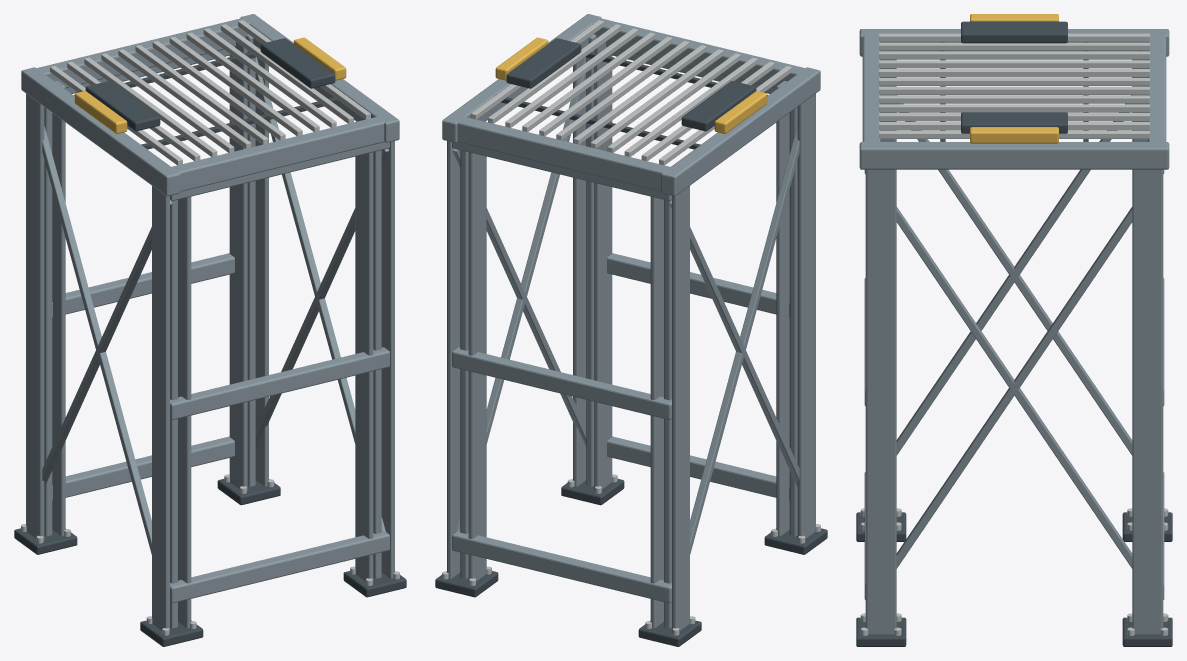
File: pit_cad_loading_tower_v1.glb
3 renders of one model, left to right at view 1: azimuth 30°, elevation 25°; view 2: azimuth 150°, elevation 25°; view 3: azimuth 270°, elevation 25°, orthographic. The views are drawn at different scales.
Parts seen in each view (by area): view 1: pit_cad_loading_tower_v1_galvanized_structural_steel, pit_cad_loading_tower_v1_machined_fasteners, pit_cad_loading_tower_v1_recessed_steel, pit_cad_loading_tower_v1_safety_ochre; view 2: pit_cad_loading_tower_v1_galvanized_structural_steel, pit_cad_loading_tower_v1_machined_fasteners, pit_cad_loading_tower_v1_recessed_steel, pit_cad_loading_tower_v1_safety_ochre; view 3: pit_cad_loading_tower_v1_galvanized_structural_steel, pit_cad_loading_tower_v1_machined_fasteners, pit_cad_loading_tower_v1_recessed_steel, pit_cad_loading_tower_v1_safety_ochre.
Part boxes in pixels (bbox=[...]): pit_cad_loading_tower_v1_galvanized_structural_steel: bbox=[21, 14, 399, 632]; pit_cad_loading_tower_v1_machined_fasteners: bbox=[21, 20, 399, 635]; pit_cad_loading_tower_v1_recessed_steel: bbox=[14, 38, 406, 646]; pit_cad_loading_tower_v1_safety_ochre: bbox=[74, 37, 346, 133]; pit_cad_loading_tower_v1_galvanized_structural_steel: bbox=[442, 14, 820, 632]; pit_cad_loading_tower_v1_machined_fasteners: bbox=[442, 20, 820, 635]; pit_cad_loading_tower_v1_recessed_steel: bbox=[435, 38, 827, 646]; pit_cad_loading_tower_v1_safety_ochre: bbox=[495, 37, 767, 133]; pit_cad_loading_tower_v1_galvanized_structural_steel: bbox=[859, 29, 1169, 634]; pit_cad_loading_tower_v1_machined_fasteners: bbox=[860, 33, 1168, 635]; pit_cad_loading_tower_v1_recessed_steel: bbox=[856, 21, 1172, 646]; pit_cad_loading_tower_v1_safety_ochre: bbox=[970, 14, 1058, 143].
Size of the model in its own units: 2.51 by 4.75 by 2.66.
